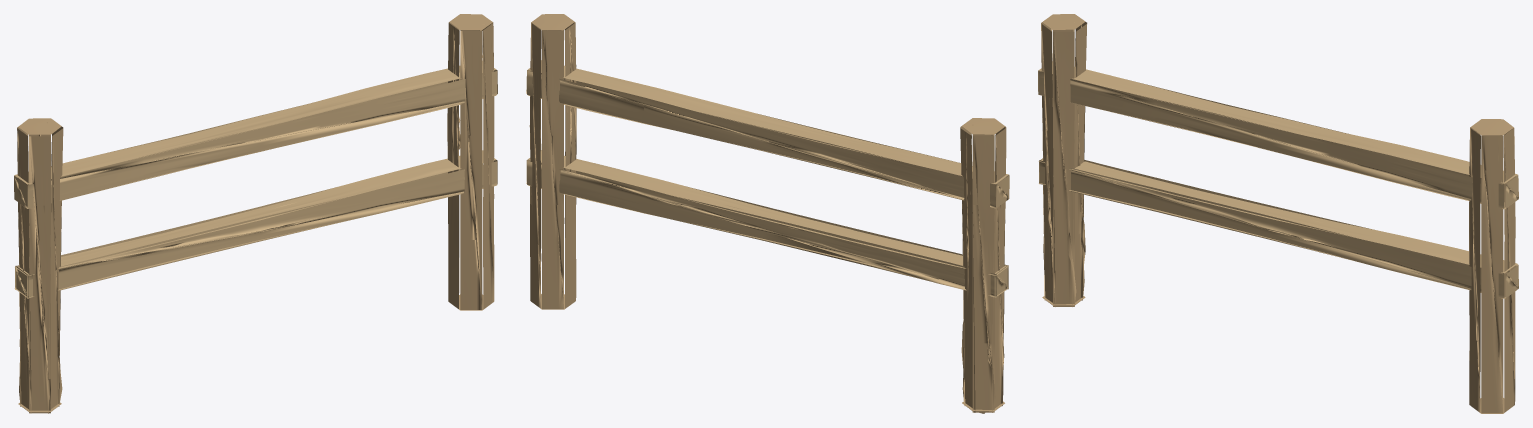
Rendered from fence.glb.
3 renders of one model, left to right at view 1: azimuth 30°, elevation 25°; view 2: azimuth 150°, elevation 25°; view 3: azimuth 330°, elevation 25°, orthographic.
Visible parts, largest first — view 1: FencePostL; view 2: FencePostL; view 3: FencePostL.
Part boxes in pixels (x1,y1,x2,y2): FencePostL: (14, 14, 497, 413); FencePostL: (526, 14, 1009, 413); FencePostL: (1038, 14, 1518, 413).
Size of the model in its own units: 1.86 by 1.07 by 0.1601.
